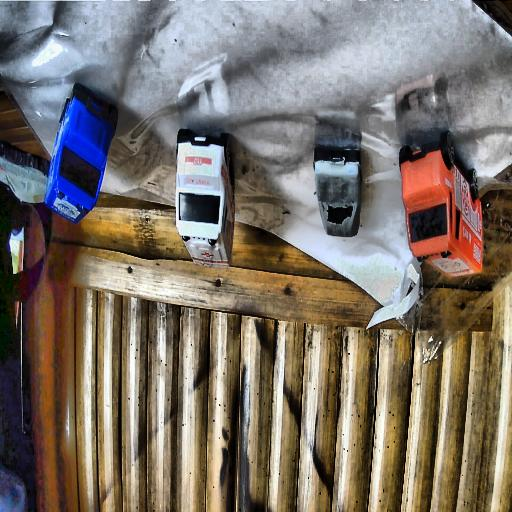ambulance: (174, 131, 237, 269)
fire_truck: (398, 132, 482, 279)
normal_car: (312, 116, 362, 239), (0, 137, 49, 204)
police car: (44, 83, 118, 225)
